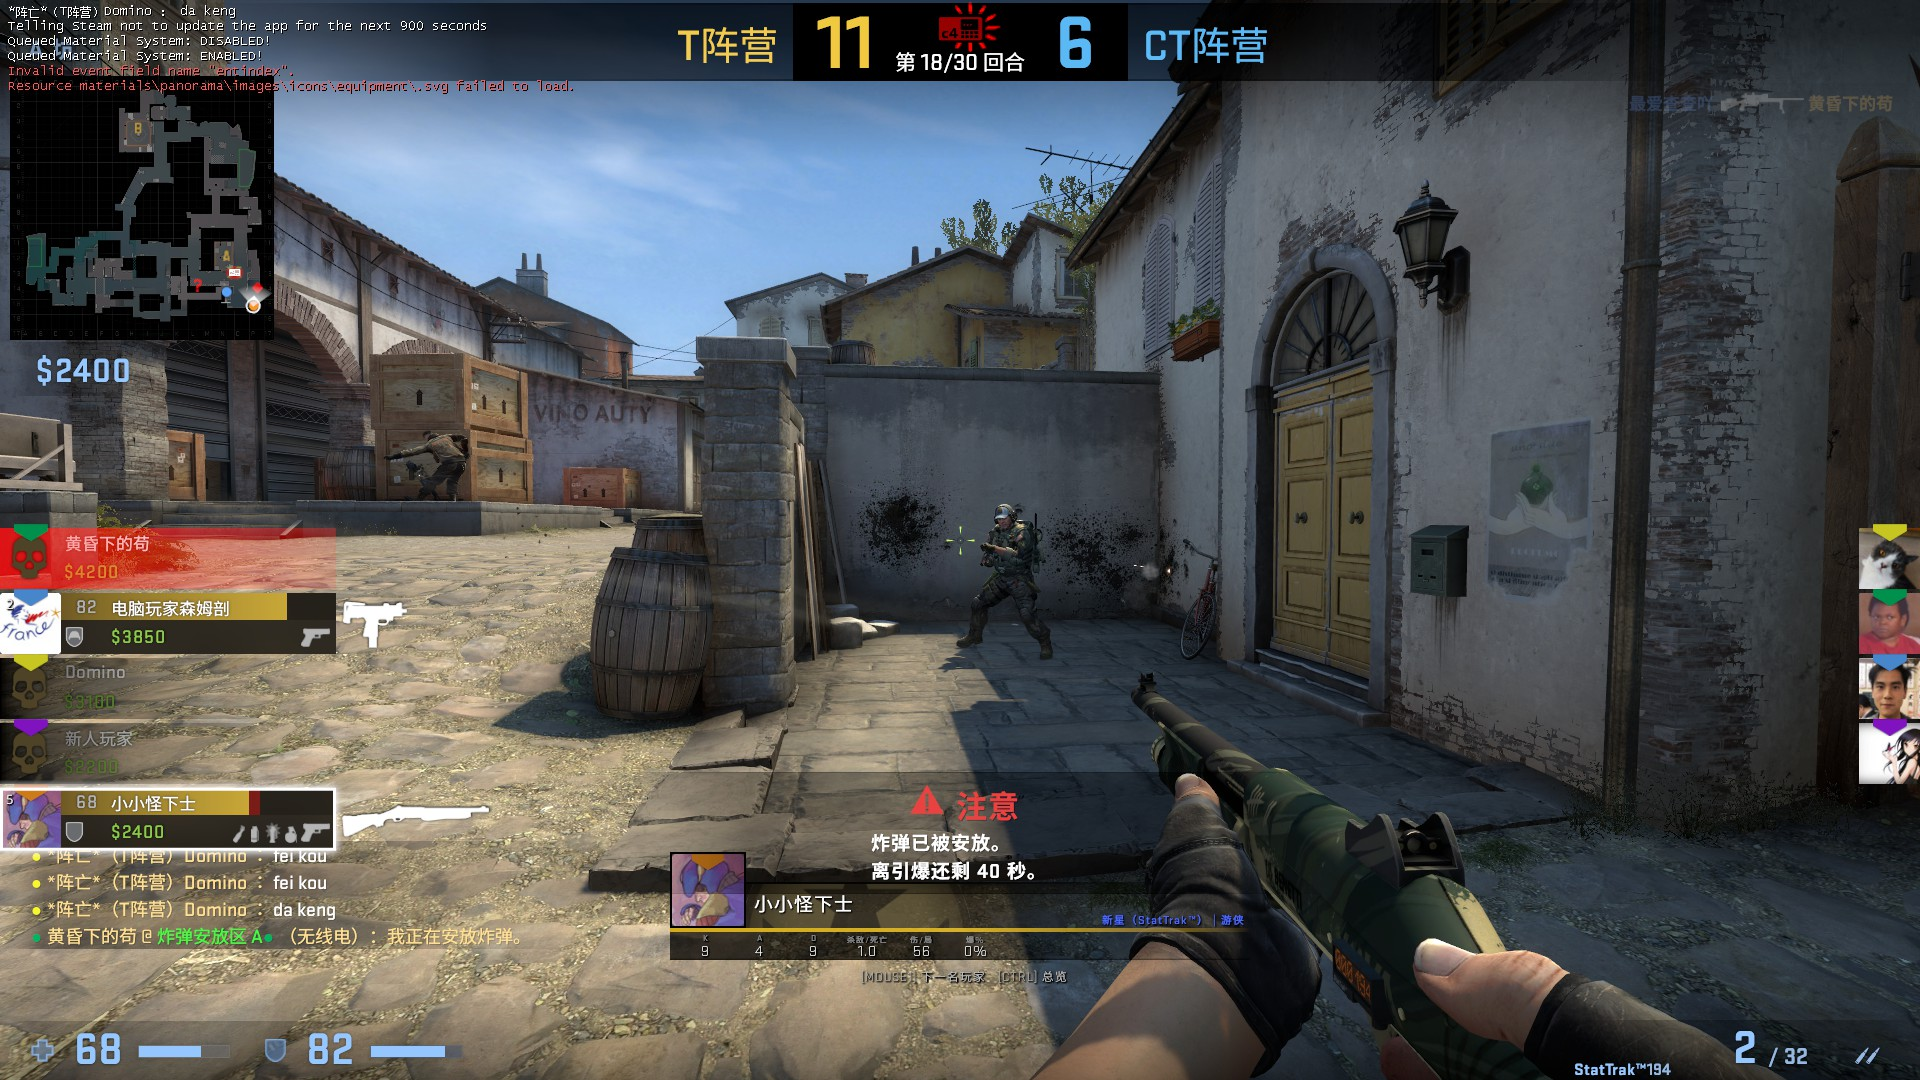head: (990, 502, 1012, 529)
